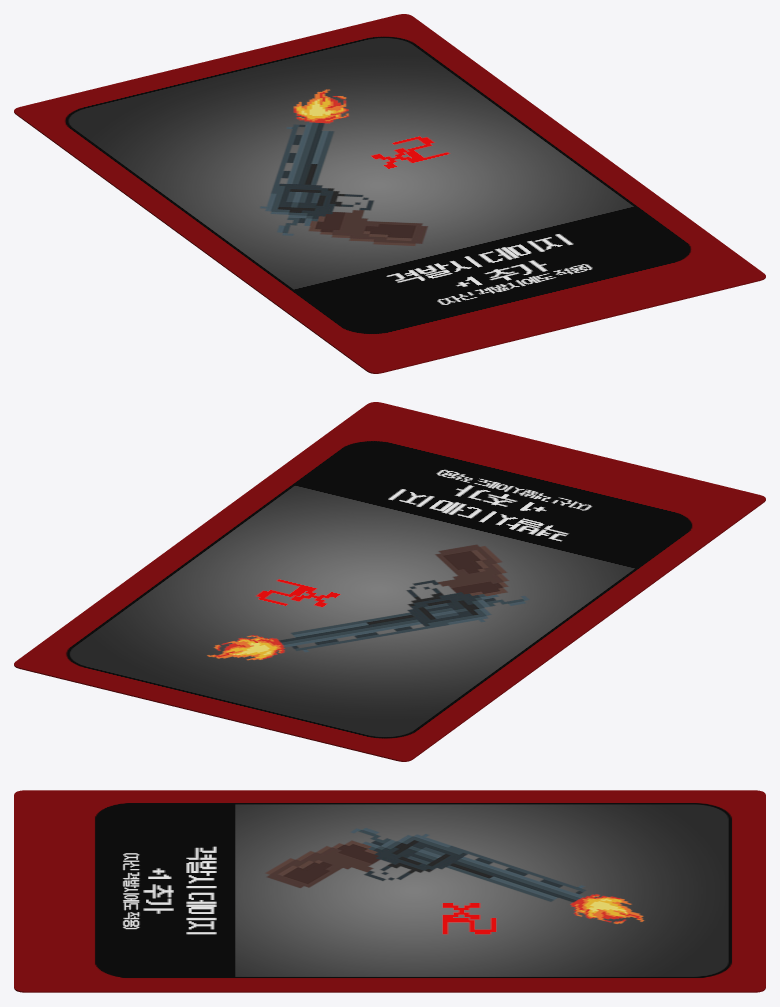
The model's file is Damage+1 Card.fbx.
3 views of the same model, one above another, from view 1: azimuth 30°, elevation 25°; view 2: azimuth 150°, elevation 25°; view 3: azimuth 270°, elevation 25° (orthographic). The views are drawn at different scales.
Visible parts, largest first — view 1: Box001; view 2: Box001; view 3: Box001.
Boxes of the visible parts, x1,y1,x2,y2 form: Box001: [14, 14, 765, 373]; Box001: [14, 402, 765, 761]; Box001: [14, 790, 765, 992].
Bounding box in the file's own units: 74.8 × 0.1969 × 118.
